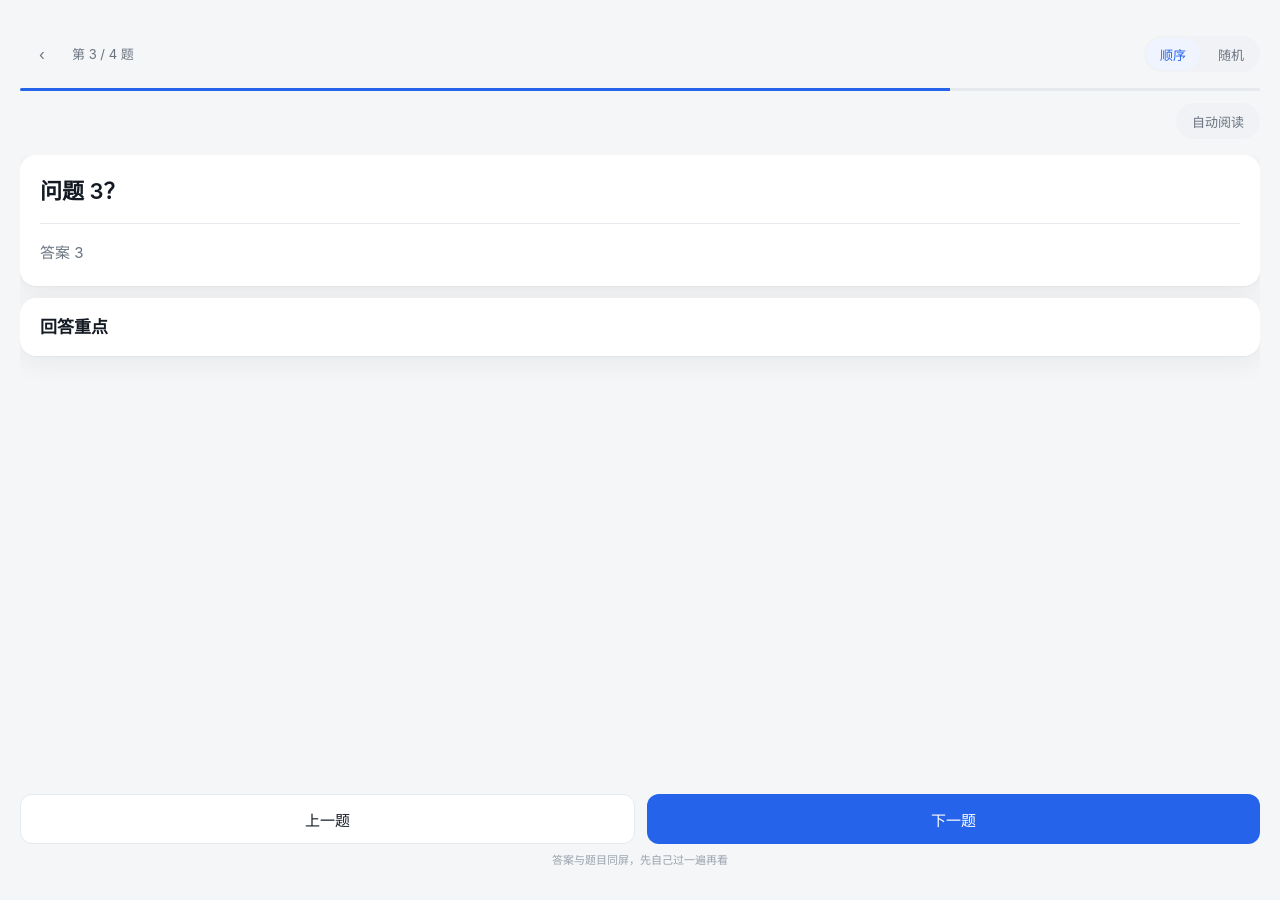
Recite · 顺序 / 随机 › 切回顺序：恢复原序，且顺序模式的位置没被随机模式顶掉
expect the text "问题 3？" is shown: met, box [40,178,126,204]
Click the button "随机": click(1231, 54) [1204,38,1258,70]
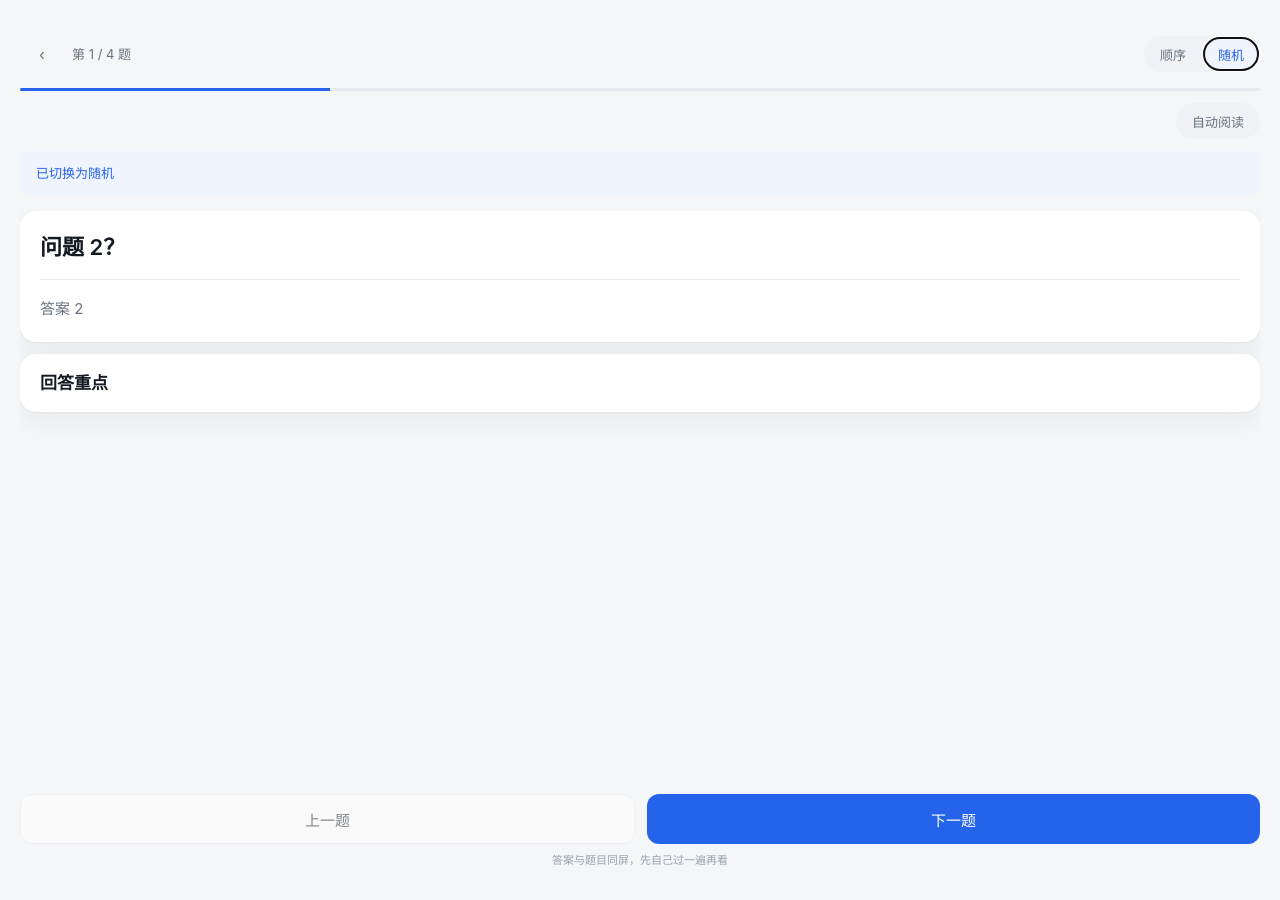
expect the text "问题 3？" is gone: met
Click the button "顺序": click(1173, 54) [1146,38,1200,70]
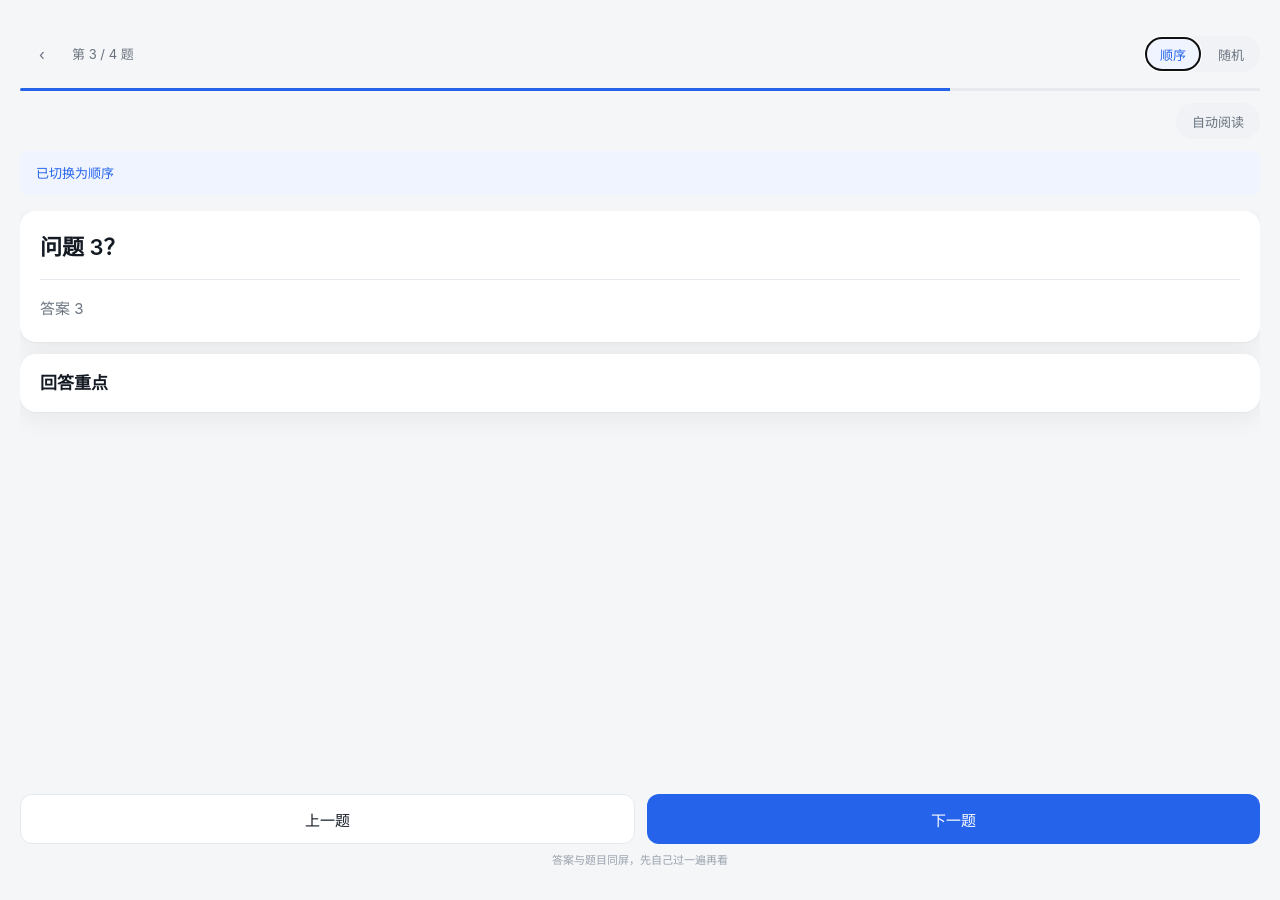
expect the text "问题 3？" is shown: met, box [40,234,126,260]
expect the text "第 3 / 4 题" is shown: met, box [72,46,134,62]
expect the text "已切换为顺序" is shown: met, box [20,151,1260,195]
